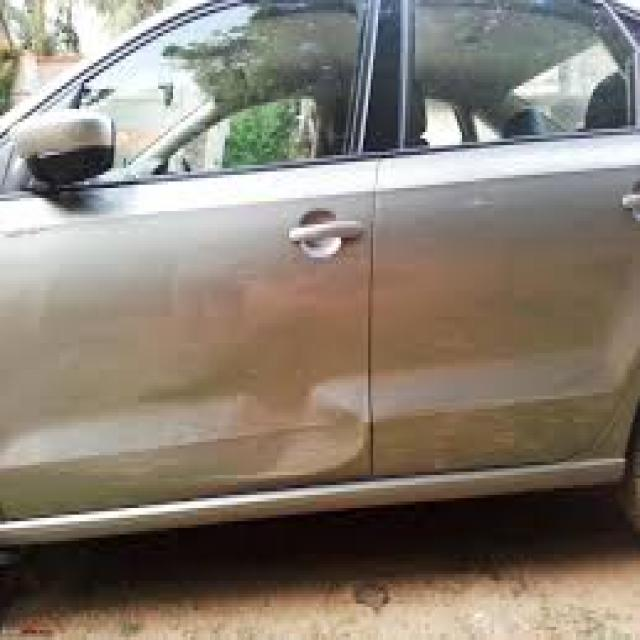minor: (128, 204, 460, 566)
